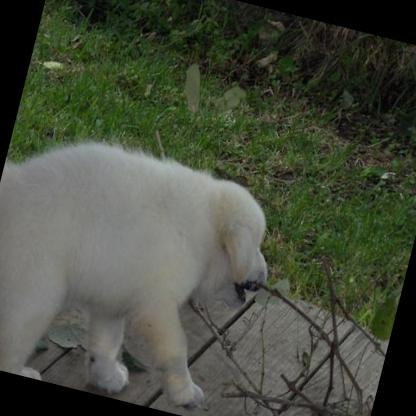Great_Pyrenees: (0, 120, 289, 416)
